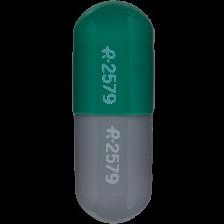68084-055: (0, 0, 224, 224)
